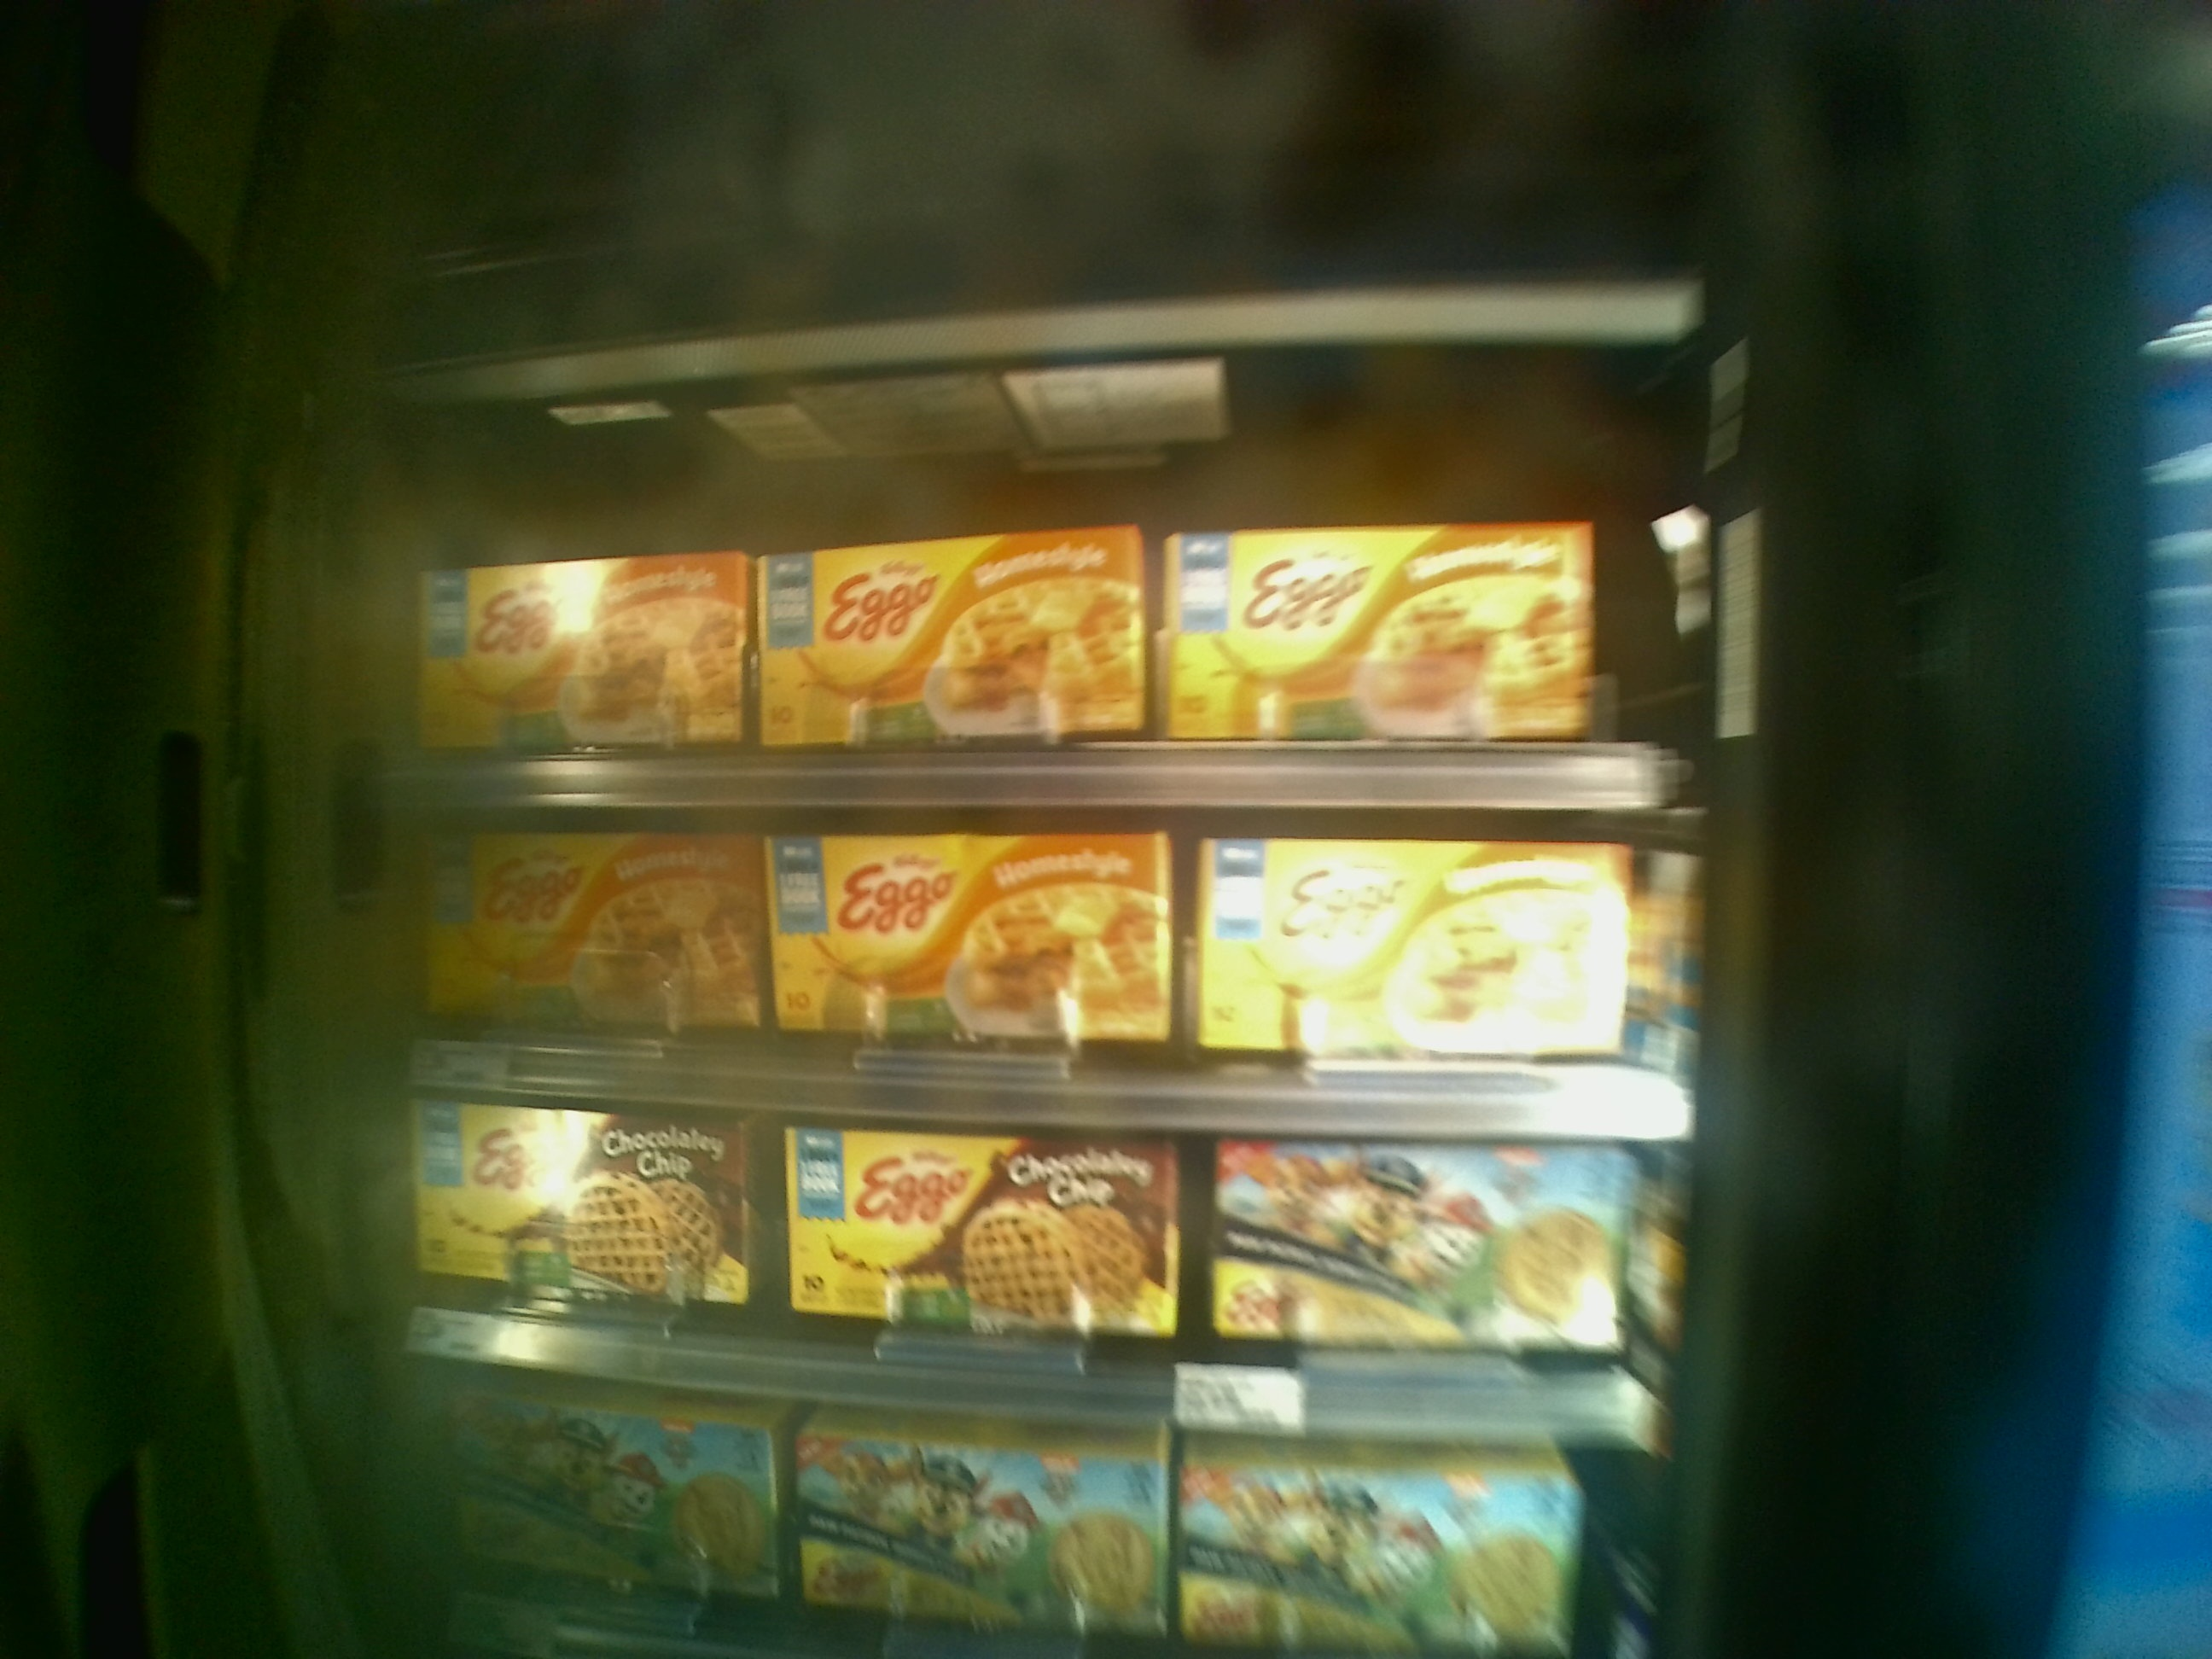shelf: (383, 457, 1679, 814), (409, 1103, 1684, 1462), (388, 817, 1695, 1148)
